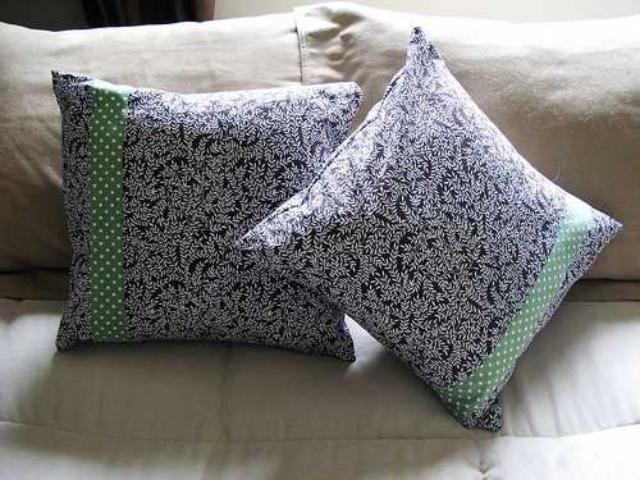pillow: (238, 23, 624, 431), (49, 66, 361, 362)
